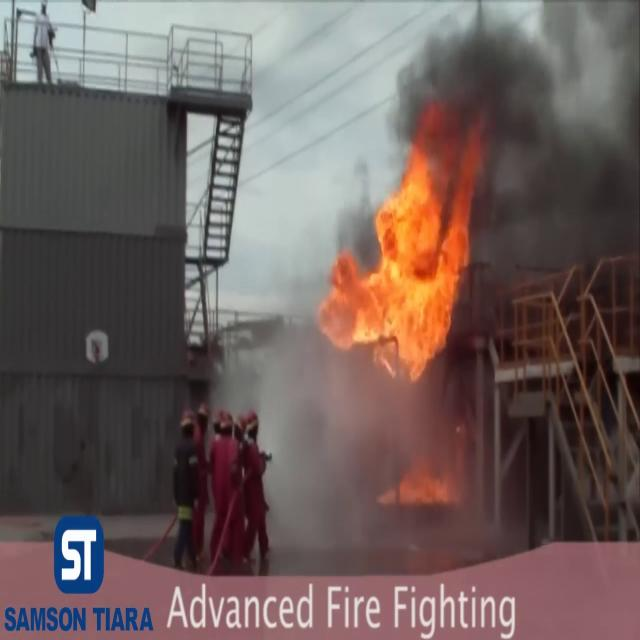Fire: (317, 128, 483, 382)
Smoke: (414, 0, 640, 304)
